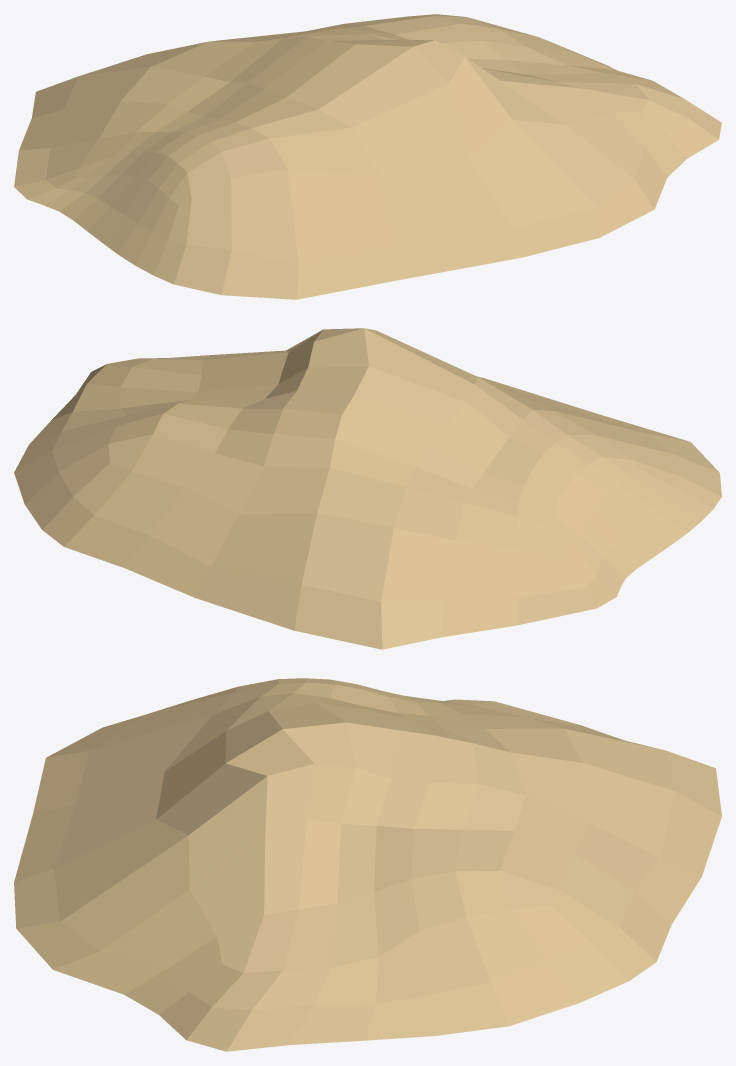
Rendered from Sand_2_low.fbx.
3 renders of one model, top to bottom at view 1: azimuth 30°, elevation 25°; view 2: azimuth 150°, elevation 25°; view 3: azimuth 270°, elevation 25°, orthographic. The views are drawn at different scales.
Visible parts, largest first — view 1: Sand_2_low; view 2: Sand_2_low; view 3: Sand_2_low.
Boxes of the visible parts, x1,y1,x2,y2 form: Sand_2_low: [14, 14, 721, 299]; Sand_2_low: [14, 328, 721, 649]; Sand_2_low: [14, 678, 721, 1051].
Size of the model in its own units: 0.5972 by 0.1224 by 0.5072.
